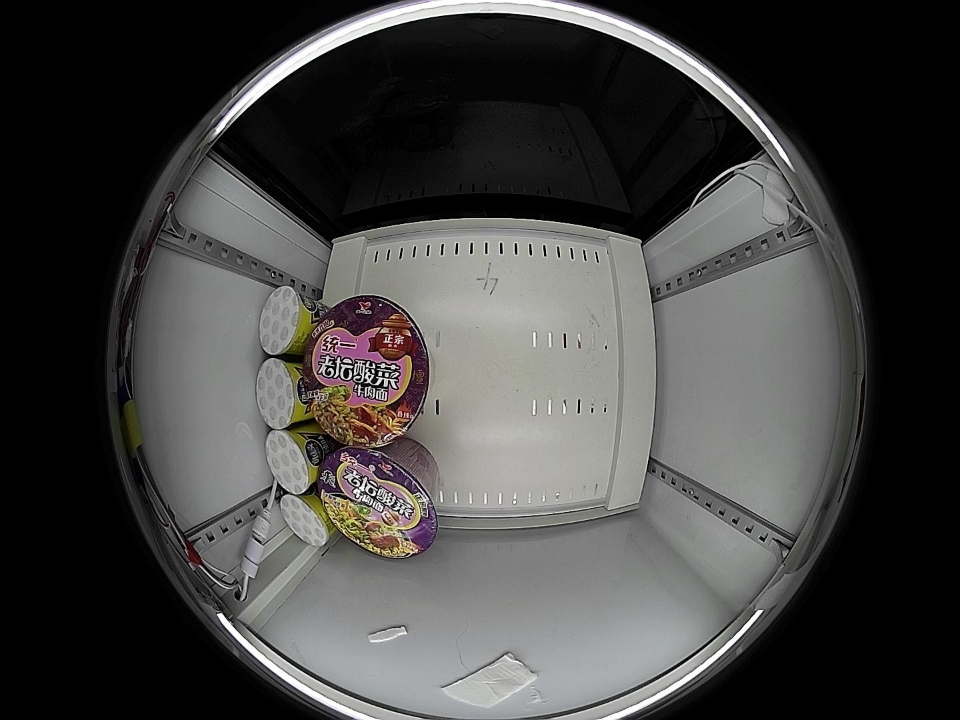kebike: (258, 286, 315, 357), (255, 357, 309, 429), (265, 427, 321, 494), (279, 490, 334, 547)
laotansuancai: (308, 297, 430, 447), (320, 446, 439, 559)
